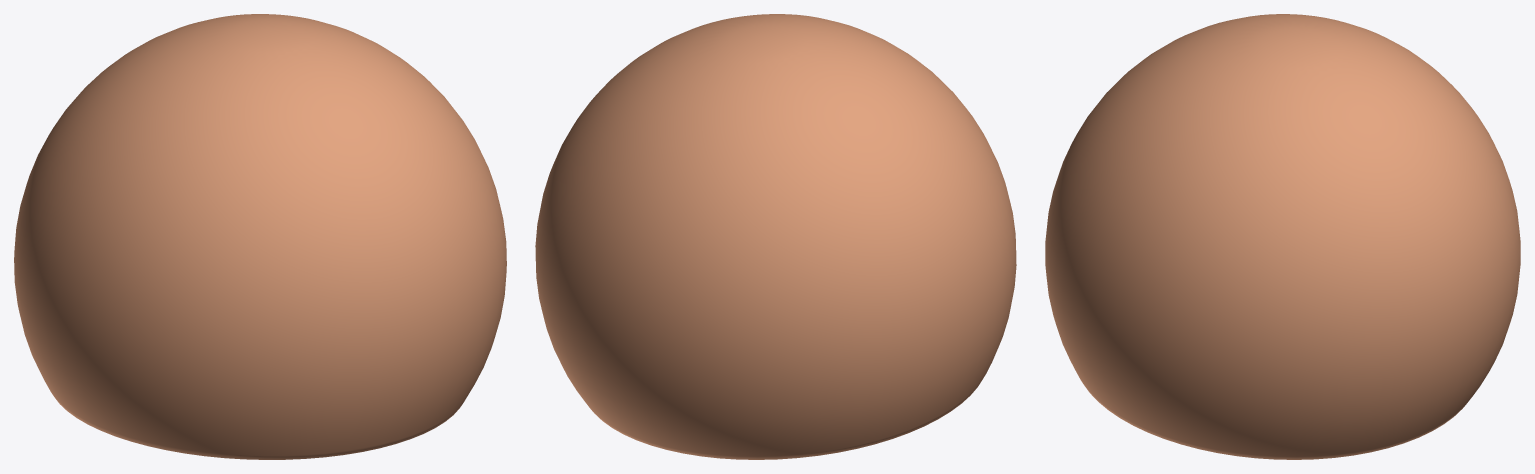
3 views of the same model, side by side, from view 1: azimuth 30°, elevation 25°; view 2: azimuth 150°, elevation 25°; view 3: azimuth 270°, elevation 25° (orthographic). The views are drawn at different scales.
Parts seen in each view (by area): view 1: 右侧视网膜; view 2: 右侧视网膜; view 3: 右侧视网膜.
Boxes of the visible parts, left/top/right/bottom form: 右侧视网膜: left=14, top=14, right=506, bottom=459; 右侧视网膜: left=535, top=14, right=1016, bottom=459; 右侧视网膜: left=1045, top=14, right=1520, bottom=459.
Bounding box in the file's own units: 0.0352 × 0.0281 × 0.0352.
